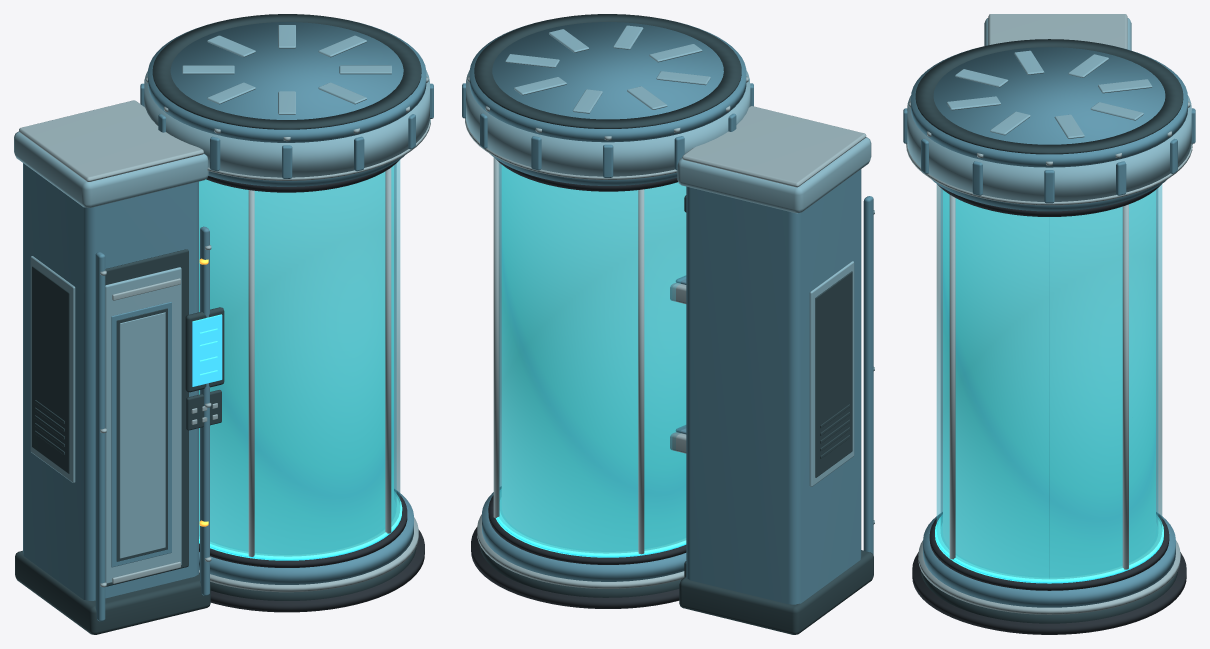
The model's file is BlueTube_Glossy.glb.
The picture shows the model from 3 angles, left to right: view 1: azimuth 30°, elevation 25°; view 2: azimuth 150°, elevation 25°; view 3: azimuth 270°, elevation 25°; orthographic projection.
Visible parts, largest first — view 1: Tube_Glossy_cobalt_blue_enamel, Tube_Cyan_glass_shell, Tube_Cyan_energy_core, Tube_Worn_light_blue_panels, Tube_Recessed_graphite, Tube_Polished_steel_edge, Tube_Dark_rubber_gasket, Tube_Diagnostic_screen, Tube_Indicator_bright_cyan; view 2: Tube_Glossy_cobalt_blue_enamel, Tube_Cyan_glass_shell, Tube_Cyan_energy_core, Tube_Recessed_graphite, Tube_Worn_light_blue_panels, Tube_Polished_steel_edge, Tube_Dark_rubber_gasket, Tube_Indicator_bright_cyan; view 3: Tube_Cyan_glass_shell, Tube_Cyan_energy_core, Tube_Glossy_cobalt_blue_enamel, Tube_Worn_light_blue_panels, Tube_Polished_steel_edge, Tube_Recessed_graphite, Tube_Dark_rubber_gasket, Tube_Indicator_bright_cyan.
Boxes of the visible parts, <box> form: Tube_Glossy_cobalt_blue_enamel: <box>23,19,433,621</box>; Tube_Cyan_glass_shell: <box>199,160,400,556</box>; Tube_Cyan_energy_core: <box>199,165,393,553</box>; Tube_Worn_light_blue_panels: <box>14,25,429,583</box>; Tube_Recessed_graphite: <box>15,14,421,634</box>; Tube_Polished_steel_edge: <box>19,76,430,592</box>; Tube_Dark_rubber_gasket: <box>199,160,424,612</box>; Tube_Diagnostic_screen: <box>192,314,222,386</box>; Tube_Indicator_bright_cyan: <box>199,328,402,560</box>; Tube_Glossy_cobalt_blue_enamel: <box>462,19,873,604</box>; Tube_Cyan_glass_shell: <box>499,163,686,553</box>; Tube_Cyan_energy_core: <box>501,165,686,550</box>; Tube_Recessed_graphite: <box>474,14,873,634</box>; Tube_Worn_light_blue_panels: <box>466,25,871,486</box>; Tube_Polished_steel_edge: <box>465,76,874,588</box>; Tube_Dark_rubber_gasket: <box>471,159,686,608</box>; Tube_Indicator_bright_cyan: <box>495,490,686,557</box>; Tube_Cyan_glass_shell: <box>936,184,1162,578</box>; Tube_Cyan_energy_core: <box>943,190,1155,576</box>; Tube_Glossy_cobalt_blue_enamel: <box>903,46,1195,607</box>; Tube_Worn_light_blue_panels: <box>907,18,1191,201</box>; Tube_Polished_steel_edge: <box>906,14,1192,614</box>; Tube_Recessed_graphite: <box>915,39,1183,623</box>; Tube_Dark_rubber_gasket: <box>912,184,1186,634</box>; Tube_Indicator_bright_cyan: <box>935,515,1163,583</box>.
Size of the model in its own units: 9.44 by 12.1 by 6.63.
